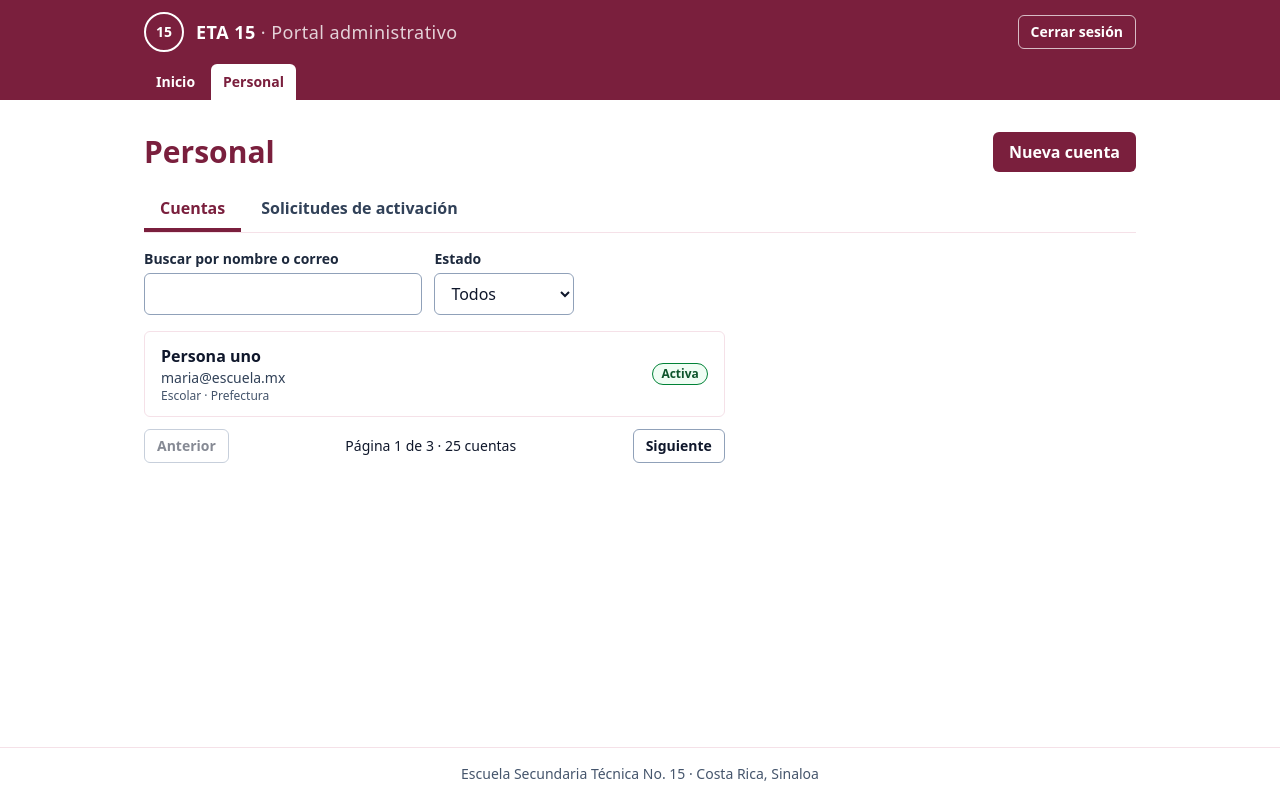
Scenario: listado, busqueda, filtros y paginacion › pagina: siguiente/anterior consultan la pagina correspondiente
The image size is (1280, 800).
expect the text "Persona uno" is shown: met, box [161,345,261,367]
expect the text "Página 1 de 3 · 25 cuentas" is shown: met, box [345,436,516,456]
Click the button "Siguiente": [679, 446] box [633,429,725,463]
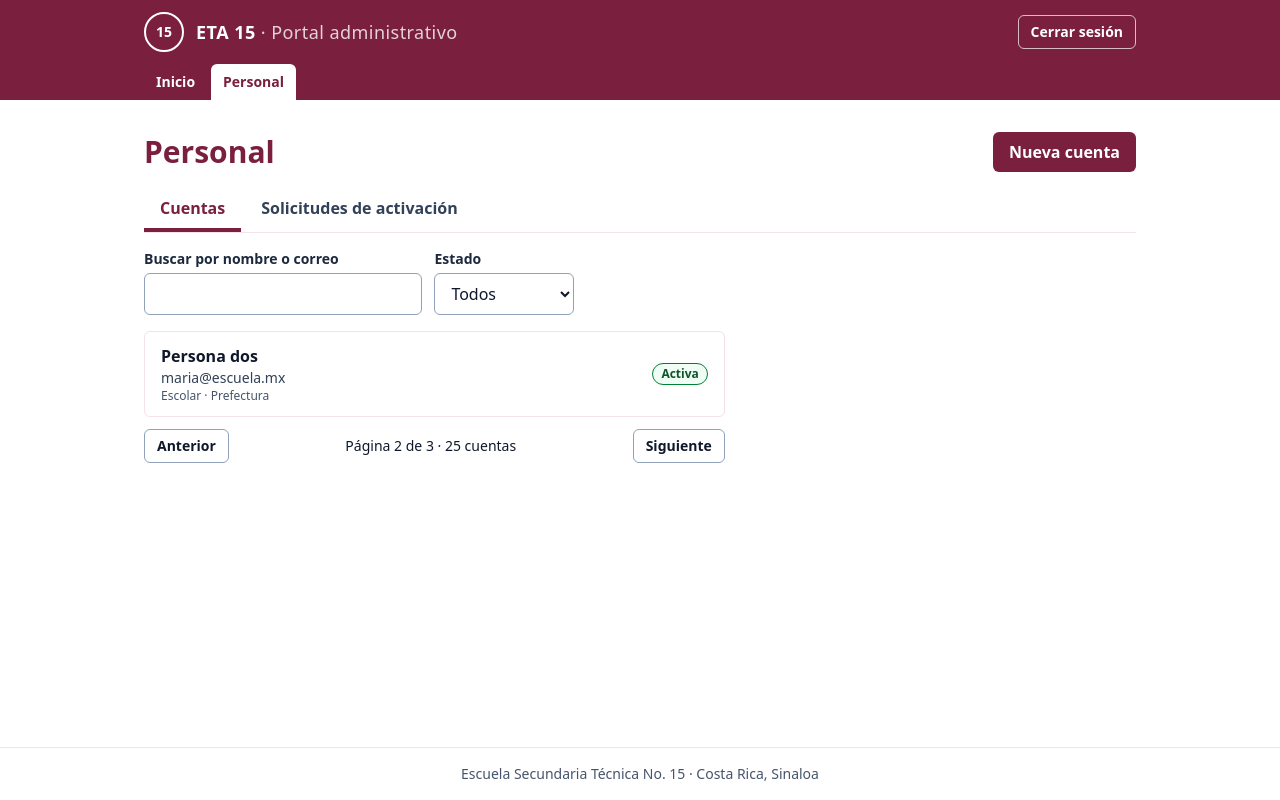
expect the text "Persona dos" is shown: met, box [161,345,258,367]
